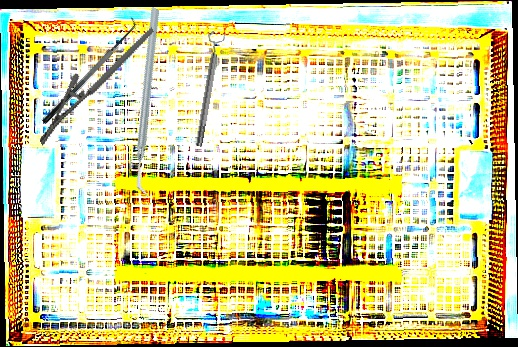Chopper: (69, 6, 230, 197)
Fixation Ring: (189, 30, 227, 148)
Needle Holder: (16, 26, 178, 147)
Spatula Surgical: (33, 15, 143, 125)
